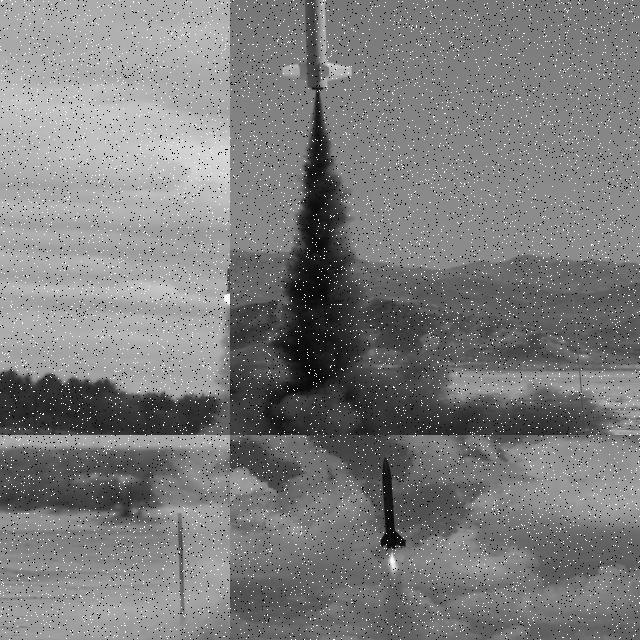Rocket: (278, 0, 354, 92), (381, 456, 406, 549), (224, 266, 230, 295)
